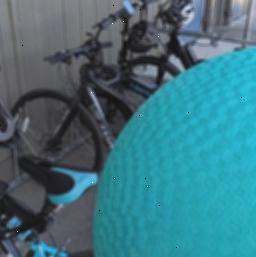algae: (92, 40, 256, 257)
